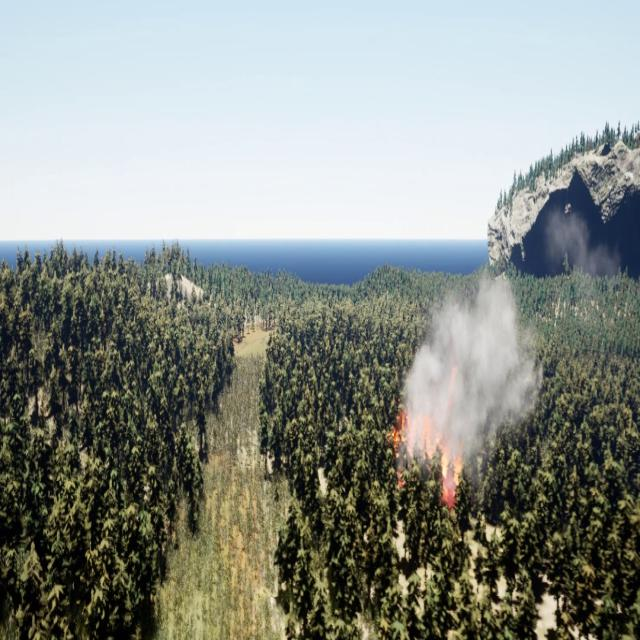fire: (389, 409, 462, 505)
smoke: (399, 267, 544, 473), (550, 210, 620, 301)
